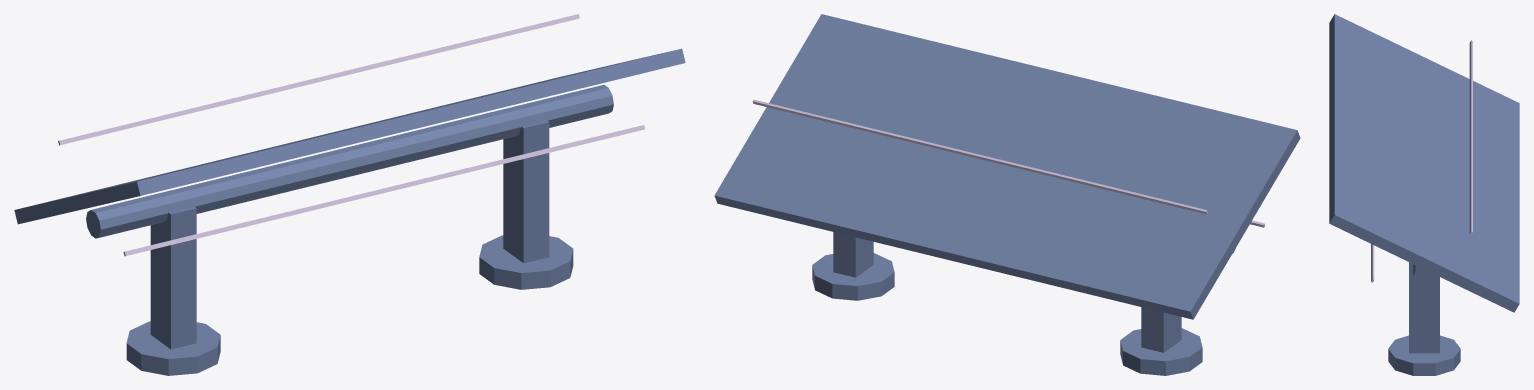
Rendered from solar_array.glb.
3 views of the same model, side by side, from view 1: azimuth 30°, elevation 25°; view 2: azimuth 150°, elevation 25°; view 3: azimuth 270°, elevation 25° (orthographic). The views are drawn at different scales.
Parts seen in each view (by area): view 1: Cylinder.002, Cube.002, Cube.001, Cube, Cylinder, Cylinder.001, Cube.011, Cube.009; view 2: Cube.002, Cylinder.001, Cylinder, Cube.011, Cube.001, Cube; view 3: Cube.002, Cube.001, Cylinder.001, Cube.011, Cylinder.002.
Part boxes in pixels (x1=…): Cylinder.002: x1=86, y1=84, x2=613, y2=238; Cube.002: x1=14, y1=48, x2=685, y2=224; Cube.001: x1=503, y1=120, x2=549, y2=263; Cube: x1=150, y1=206, x2=196, y2=349; Cylinder: x1=126, y1=321, x2=220, y2=375; Cylinder.001: x1=479, y1=235, x2=573, y2=289; Cube.011: x1=58, y1=14, x2=579, y2=145; Cube.009: x1=123, y1=125, x2=644, y2=256; Cube.002: x1=714, y1=14, x2=1300, y2=319; Cylinder.001: x1=812, y1=253, x2=894, y2=300; Cylinder: x1=1120, y1=328, x2=1202, y2=375; Cube.011: x1=752, y1=99, x2=1207, y2=214; Cube.001: x1=833, y1=232, x2=873, y2=277; Cube: x1=1141, y1=307, x2=1181, y2=352; Cube.002: x1=1329, y1=14, x2=1519, y2=312; Cube.001: x1=1409, y1=262, x2=1439, y2=353; Cylinder.001: x1=1388, y1=335, x2=1460, y2=375; Cube.011: x1=1469, y1=40, x2=1472, y2=234; Cylinder.002: x1=1413, y1=264, x2=1435, y2=286.
Bounding box in the file's own units: 3.4 × 1.44 × 1.36.
